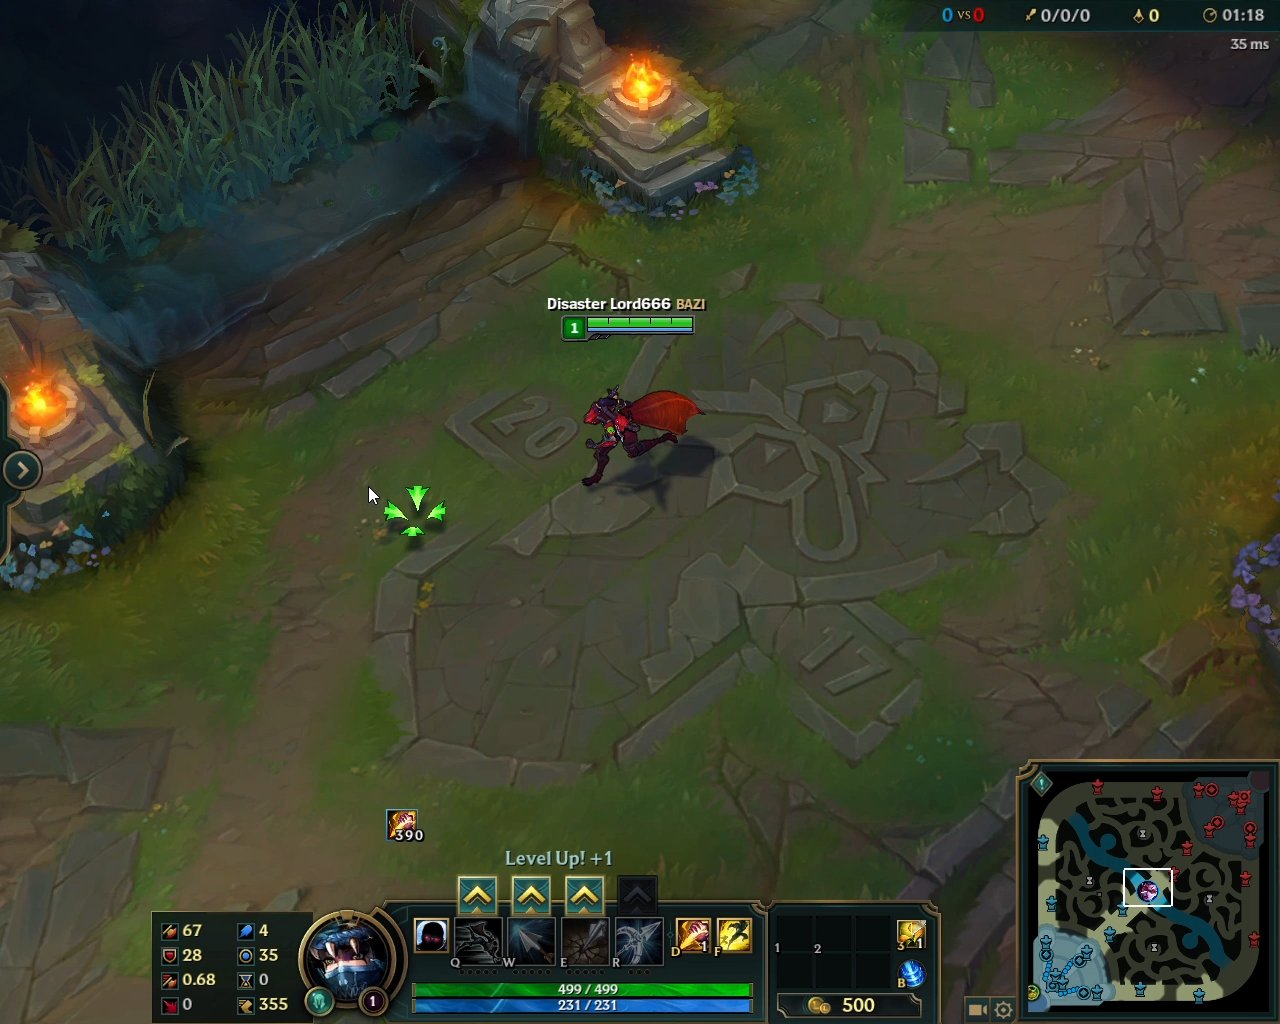Vayne: (574, 381, 712, 491)
